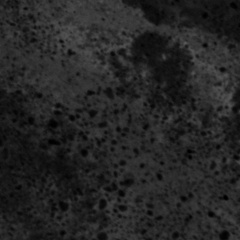Vegetation: (77, 102, 240, 238), (2, 1, 135, 98), (186, 31, 240, 108)
